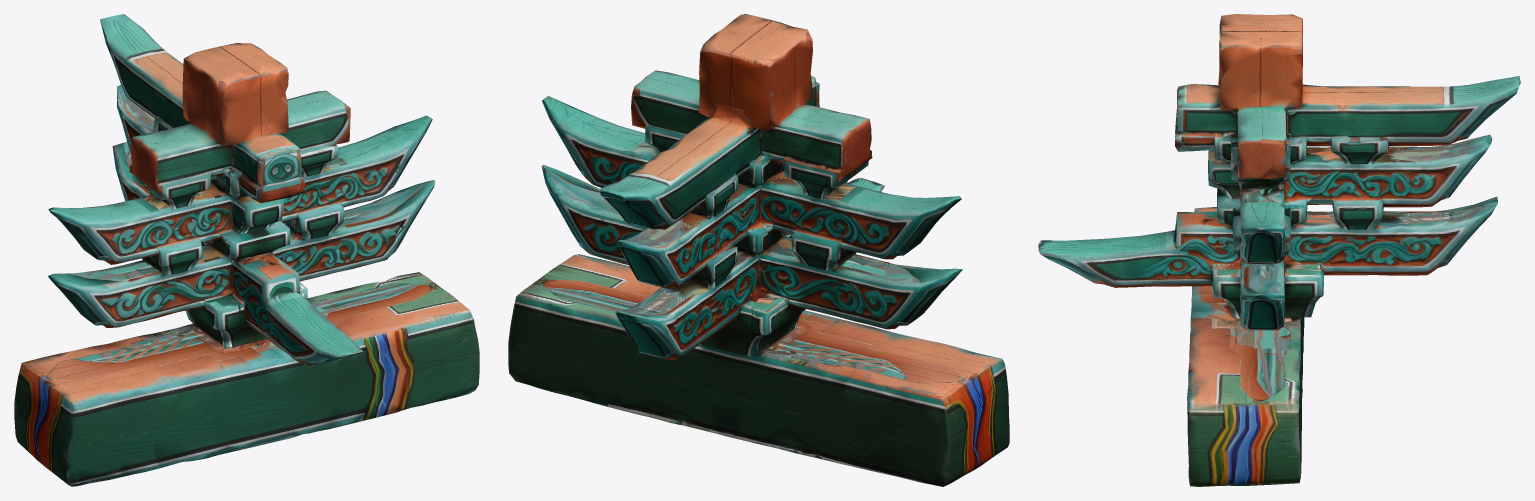
File: gongpo.fbx
The picture shows the model from 3 angles, left to right: view 1: azimuth 30°, elevation 25°; view 2: azimuth 150°, elevation 25°; view 3: azimuth 270°, elevation 25°; orthographic projection. The views are drawn at different scales.
Parts seen in each view (by area): view 1: texture_mapping; view 2: texture_mapping; view 3: texture_mapping.
Part boxes in pixels (x1=…): texture_mapping: x1=14, y1=14, x2=479, y2=486; texture_mapping: x1=508, y1=14, x2=1009, y2=486; texture_mapping: x1=1038, y1=14, x2=1520, y2=486.
Bounding box in the file's own units: 0.9994 × 1.01 × 0.8335.
1 material, 1 textured.
